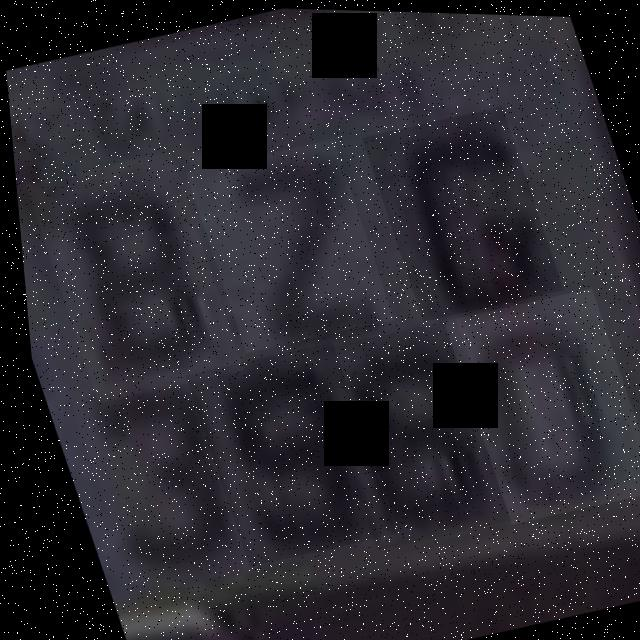0: (435, 281, 640, 524)
3: (34, 355, 275, 616)
6: (301, 312, 516, 552)
9: (175, 336, 389, 569)
B: (19, 147, 240, 405)
G: (356, 100, 561, 322)
Z: (180, 133, 391, 355)
